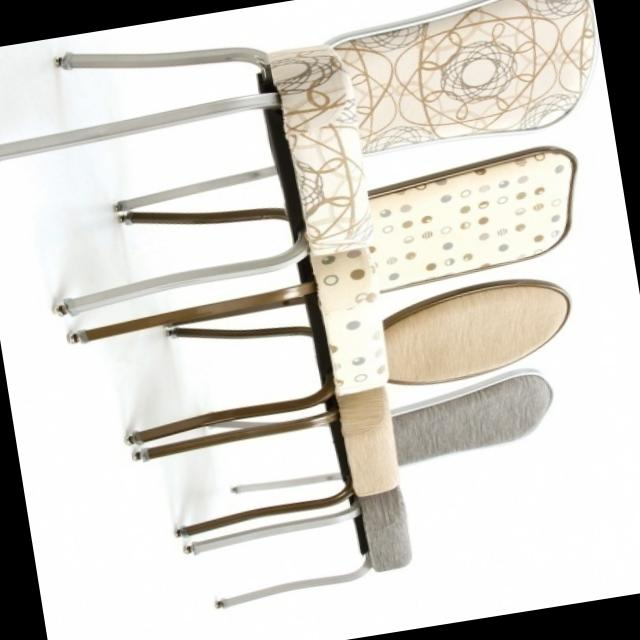Chair: (0, 0, 629, 327), (84, 138, 608, 446), (141, 270, 602, 536), (176, 362, 590, 608)
